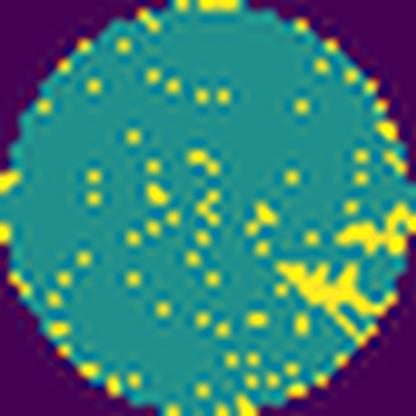Loc: (276, 257, 398, 346), (334, 204, 416, 254)
